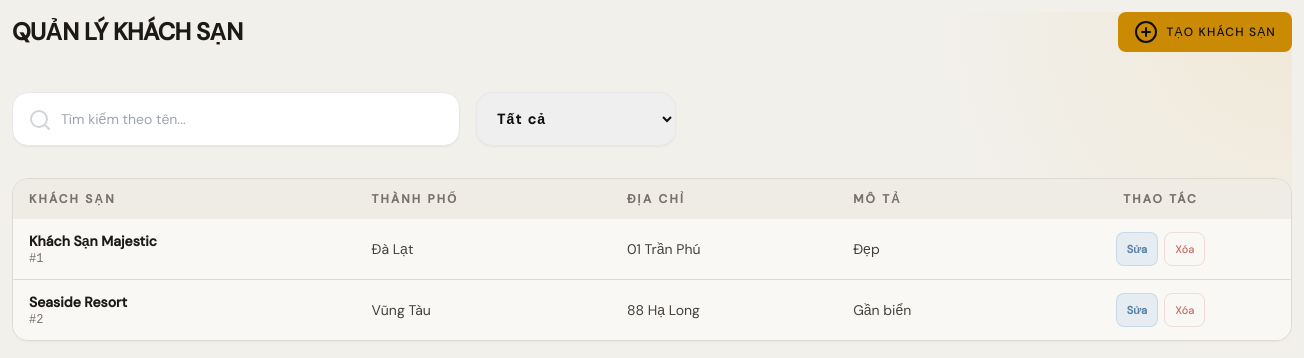
Test: Kiểm thử Component HotelManagement › TC02: Kiểm tra chức năng tìm kiếm
Expected: the text "Khách Sạn Majestic" is shown, top-left (29, 232), bottom-right (157, 250)
Type "vũng tàu" into the field with placeholder "Tìm kiếm theo tên...". click: (236,119)
box: top-left (12, 92), bottom-right (460, 146)
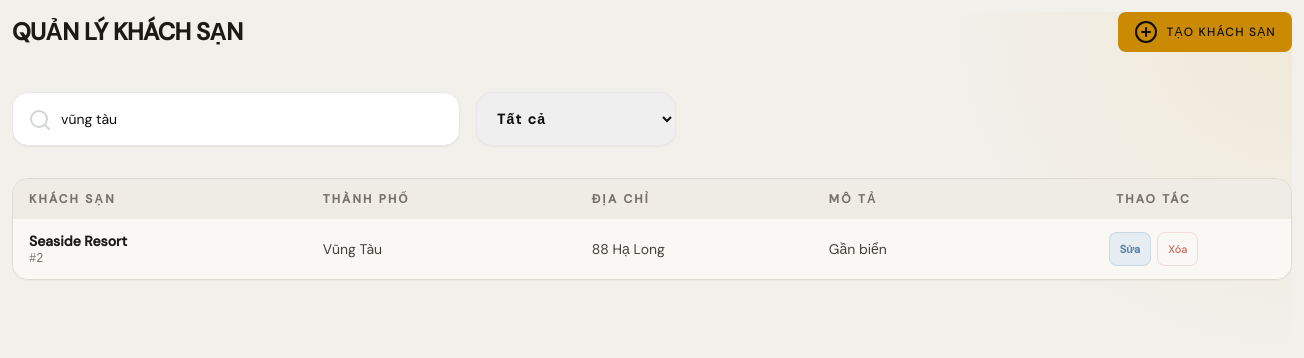
Expected: the text "Seaside Resort" is shown, top-left (29, 232), bottom-right (127, 250)
Result: the text "Khách Sạn Majestic" is gone
